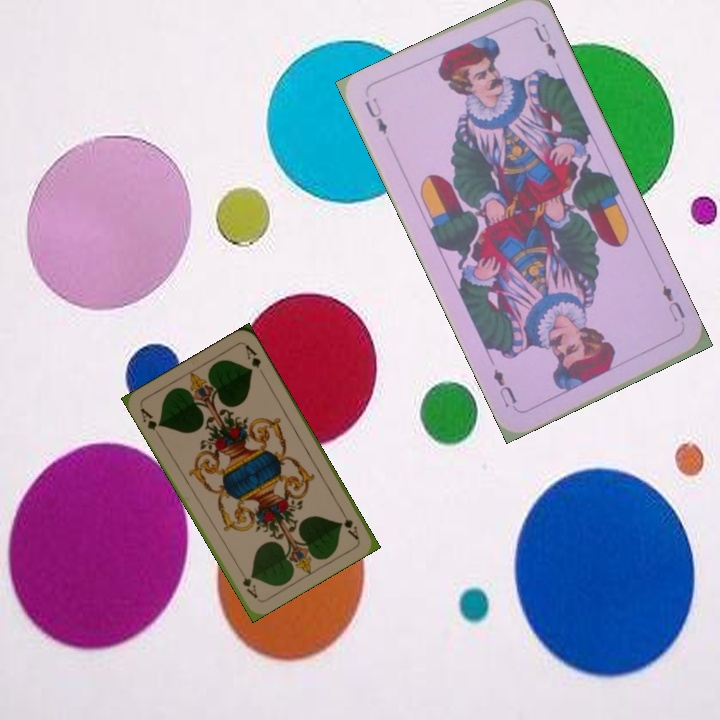EU: (658, 281, 688, 325), (360, 93, 390, 137)
GA: (136, 404, 163, 440), (336, 505, 362, 542)
